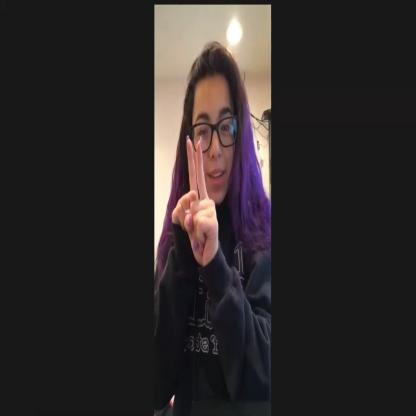NiceToMeetYou: (170, 119, 218, 276)
